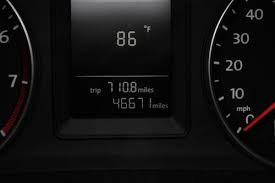Digital_Meter: (87, 79, 169, 120)
